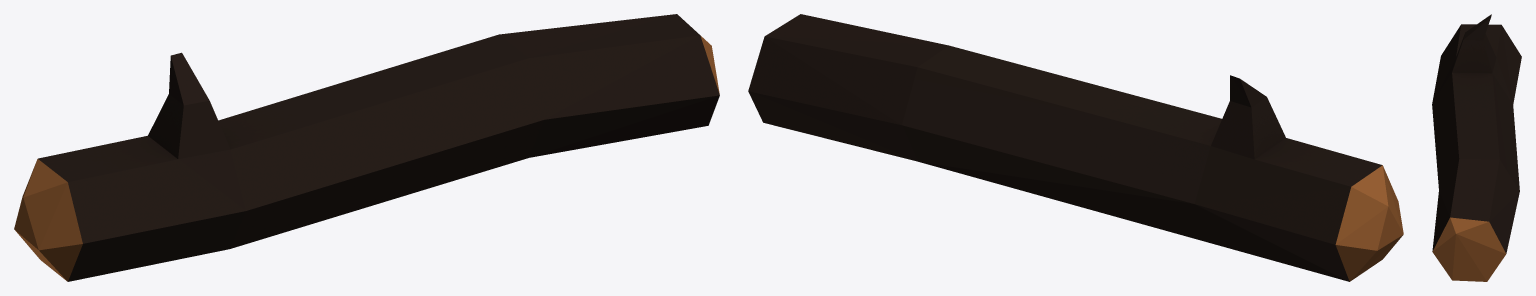
The model's file is stock.obj.
3 renders of one model, left to right at view 1: azimuth 30°, elevation 25°; view 2: azimuth 150°, elevation 25°; view 3: azimuth 270°, elevation 25°, orthographic. The views are drawn at different scales.
Visible parts, largest first — view 1: Branch_Cylinder.003_Branch_Cylinder.003_Branch1_1, Branch_Cylinder.003_Branch_Cylinder.003_Branch1_2; view 2: Branch_Cylinder.003_Branch_Cylinder.003_Branch1_1, Branch_Cylinder.003_Branch_Cylinder.003_Branch1_2; view 3: Branch_Cylinder.003_Branch_Cylinder.003_Branch1_1, Branch_Cylinder.003_Branch_Cylinder.003_Branch1_2.
Boxes of the visible parts, x1,y1,x2,y2 form: Branch_Cylinder.003_Branch_Cylinder.003_Branch1_1: (38, 14, 719, 281); Branch_Cylinder.003_Branch_Cylinder.003_Branch1_2: (14, 35, 719, 281); Branch_Cylinder.003_Branch_Cylinder.003_Branch1_1: (748, 14, 1382, 281); Branch_Cylinder.003_Branch_Cylinder.003_Branch1_2: (1335, 165, 1403, 281); Branch_Cylinder.003_Branch_Cylinder.003_Branch1_1: (1432, 14, 1521, 253); Branch_Cylinder.003_Branch_Cylinder.003_Branch1_2: (1432, 217, 1505, 281).
Size of the model in its own units: 2.88 by 0.7452 by 0.5286.
2 materials, 1 textured.
